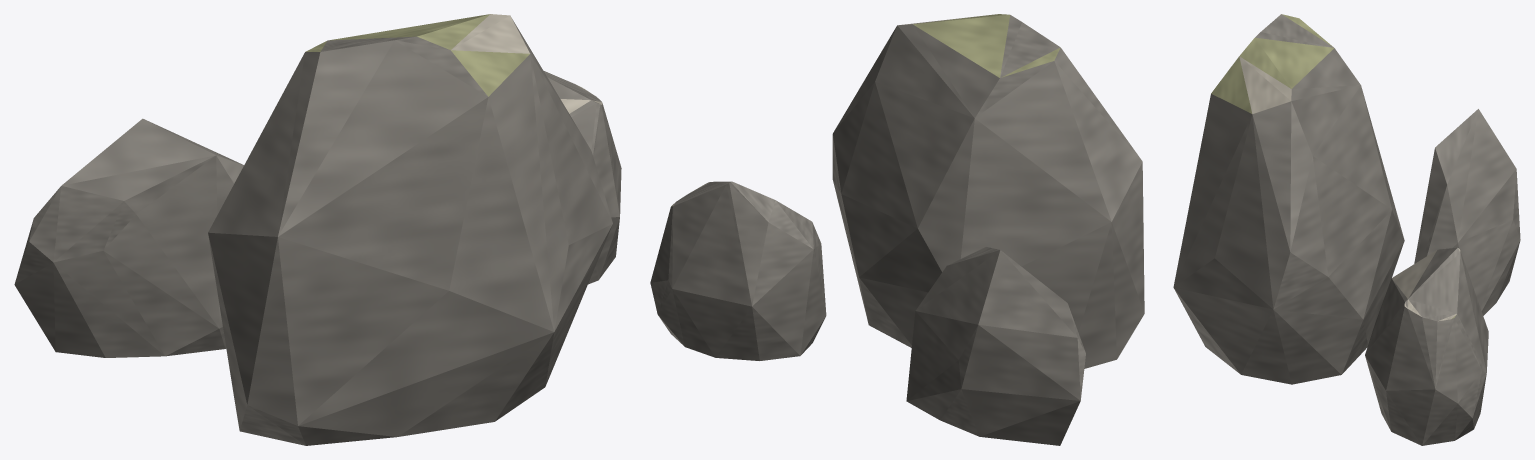
Rendered from rock_large_03.fbx.
The picture shows the model from 3 angles, left to right: view 1: azimuth 30°, elevation 25°; view 2: azimuth 150°, elevation 25°; view 3: azimuth 270°, elevation 25°; orthographic projection. The views are drawn at different scales.
Parts seen in each view (by area): view 1: rock_large_03; view 2: rock_large_03; view 3: rock_large_03.
Boxes of the visible parts, x1,y1,x2,y2 form: rock_large_03: [14, 14, 621, 445]; rock_large_03: [650, 14, 1144, 445]; rock_large_03: [1173, 14, 1520, 445].
Bounding box in the file's own units: 4.23 × 2.67 × 2.88.
